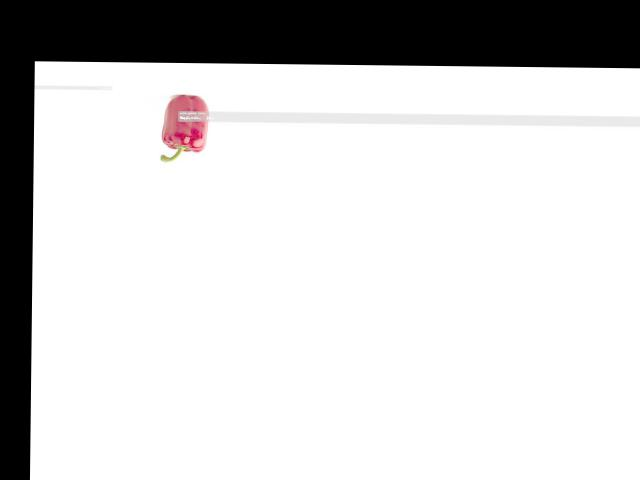bell_pepper: (153, 96, 212, 166)
